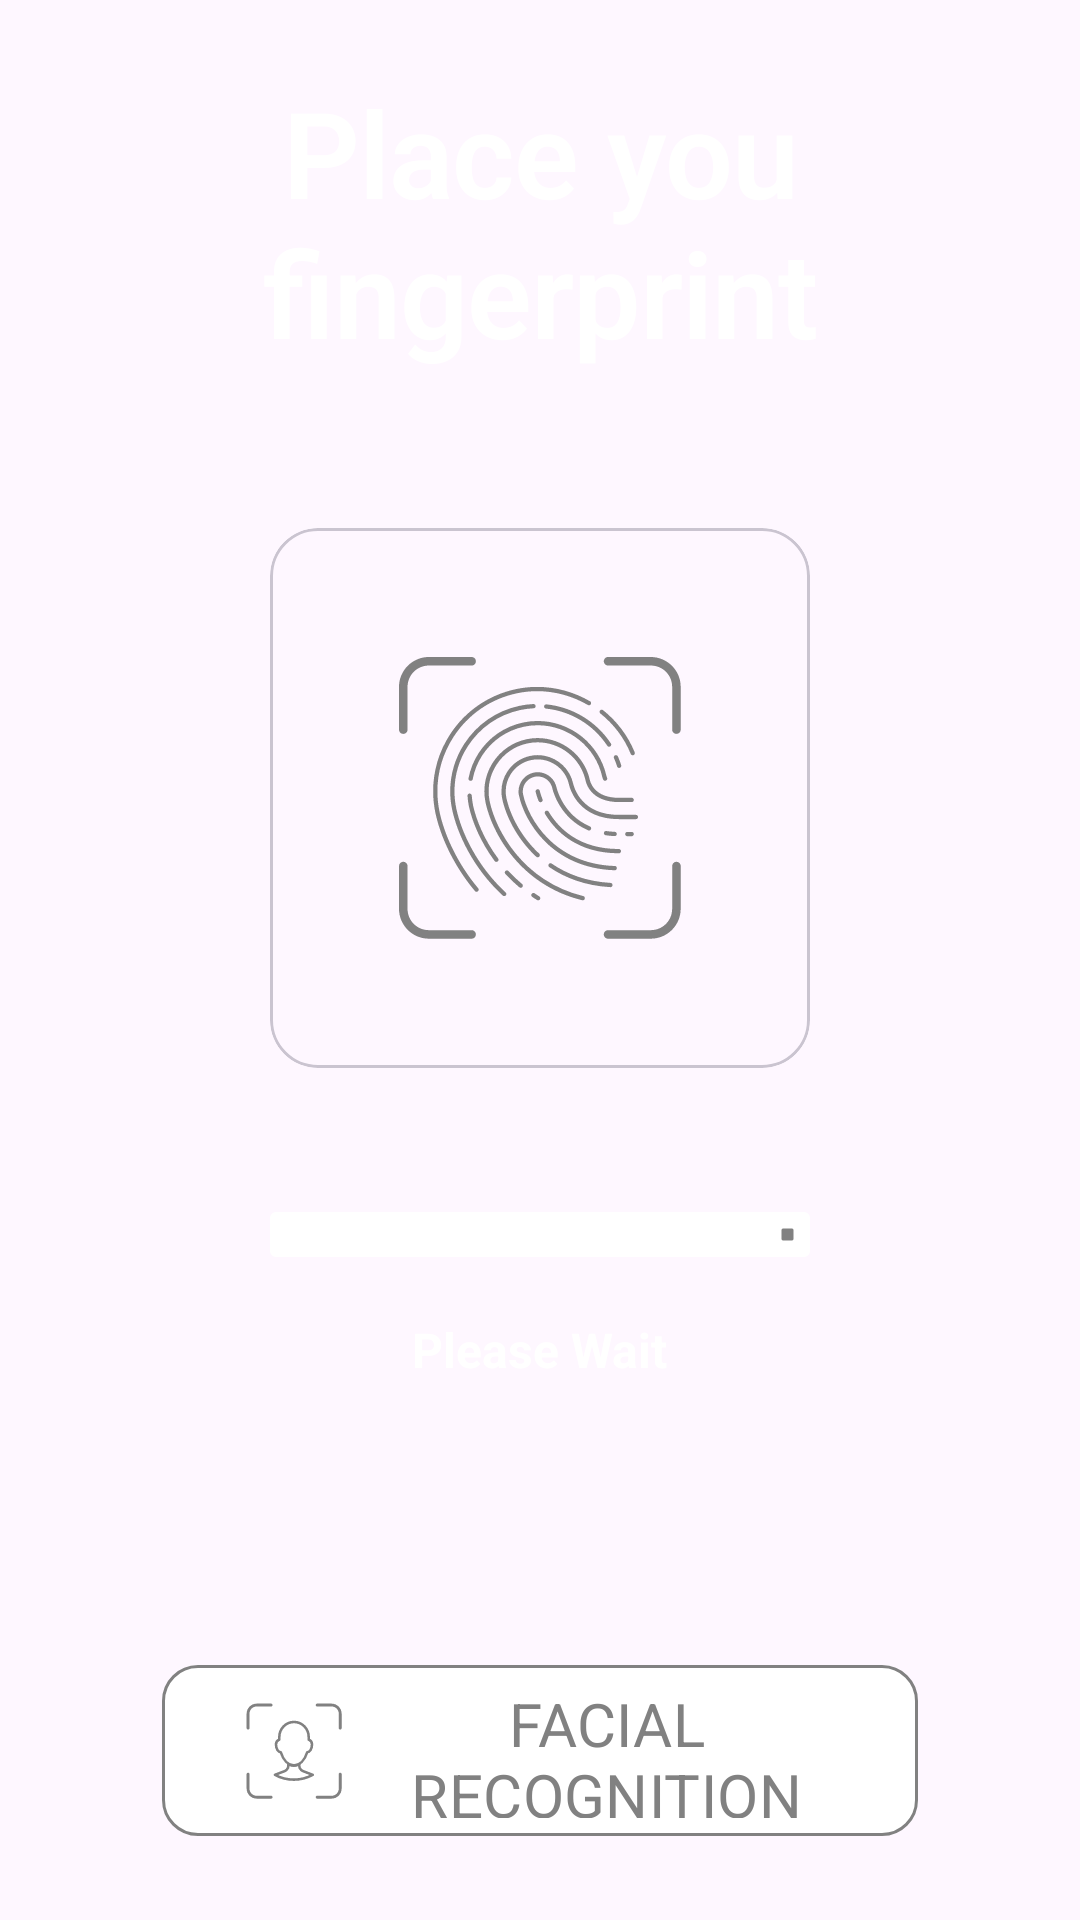

Icons on this 1080px x 1920px Android screen, each with the point to tap as [x,y]:
fingerprint: [540,798]
